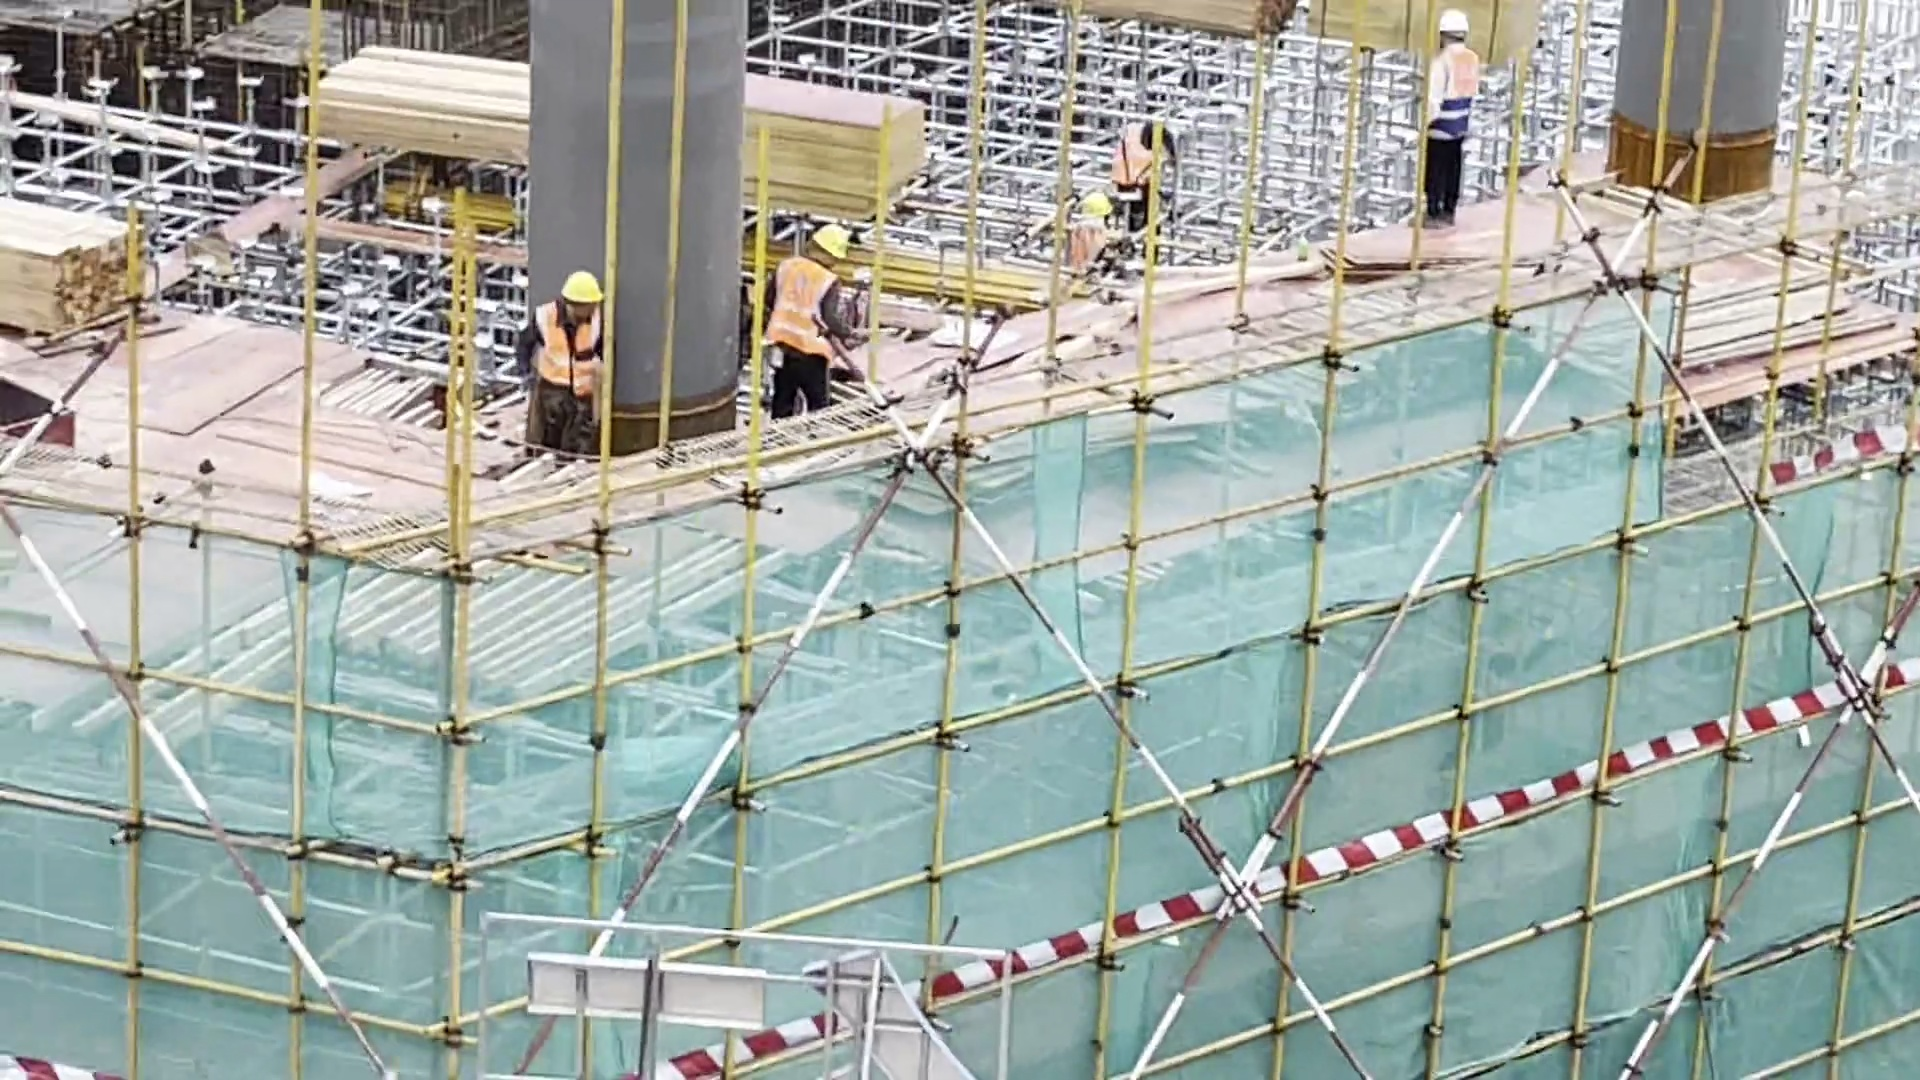helmet: (550, 255, 617, 325), (807, 213, 860, 269), (1435, 3, 1483, 54), (1068, 186, 1121, 223)
person: (503, 256, 598, 464), (771, 233, 860, 407), (1416, 10, 1480, 226), (1107, 112, 1183, 188)
vest: (774, 255, 841, 357), (531, 306, 599, 385), (1430, 54, 1486, 129), (1112, 121, 1157, 166), (1067, 228, 1097, 256)
